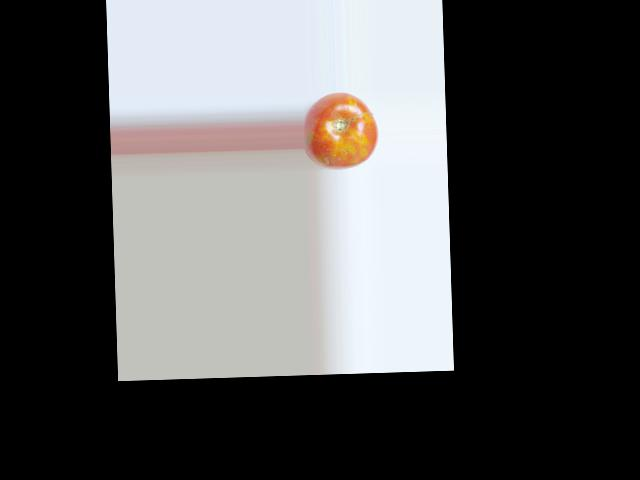tomato: (302, 91, 378, 170)
